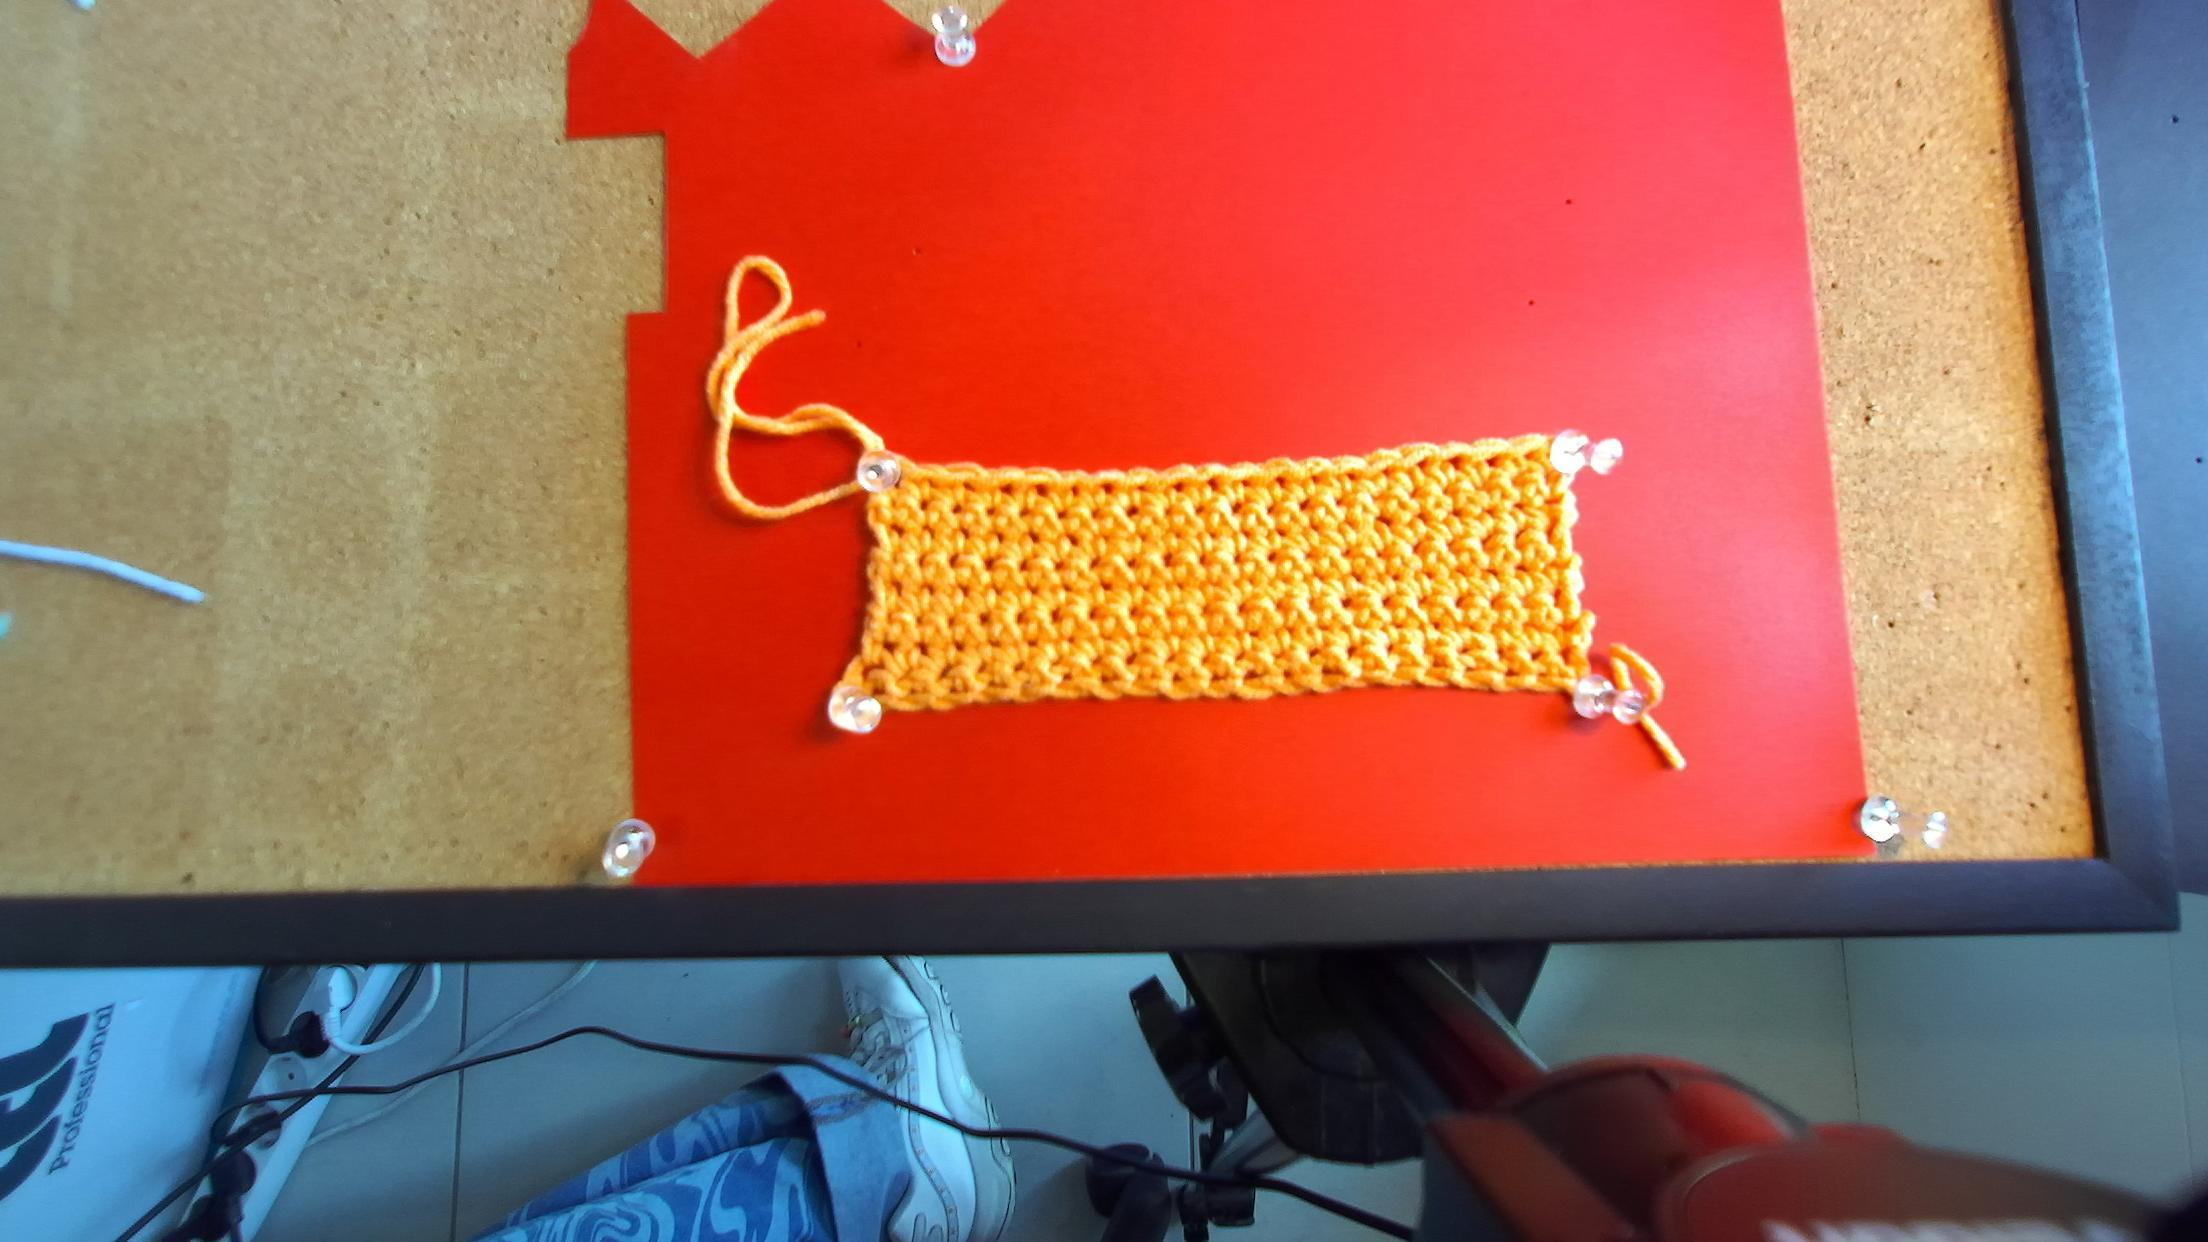hole: (1445, 454, 1465, 471), (1415, 455, 1430, 474), (1485, 453, 1502, 469), (997, 481, 1014, 496), (1034, 483, 1049, 499), (1205, 475, 1220, 491), (1099, 481, 1116, 495), (1169, 480, 1185, 493), (1274, 474, 1287, 489), (962, 481, 978, 493), (1523, 449, 1539, 461), (894, 471, 904, 488), (1345, 471, 1359, 483), (927, 478, 941, 489), (1309, 474, 1322, 485), (1381, 467, 1392, 478), (1135, 484, 1152, 491), (1072, 483, 1080, 497), (1240, 478, 1252, 487)
swatch: (843, 436, 1607, 719)
